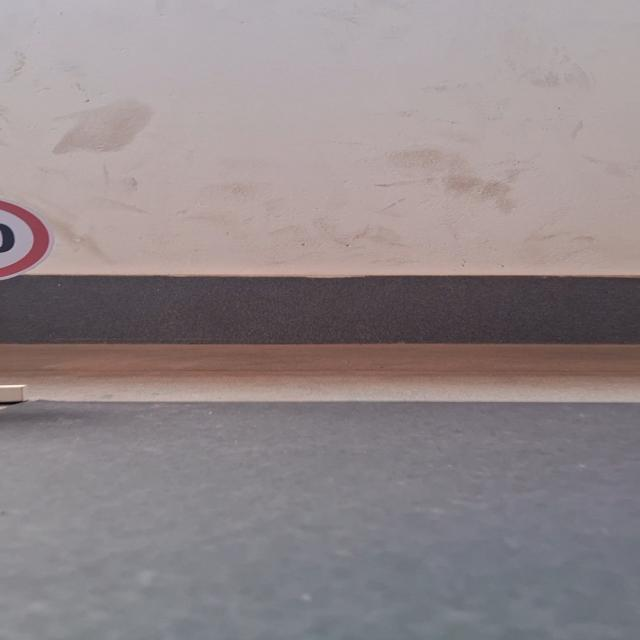Reject: (0, 187, 62, 289)
